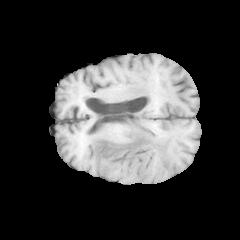glioma: (88, 121, 172, 171)
